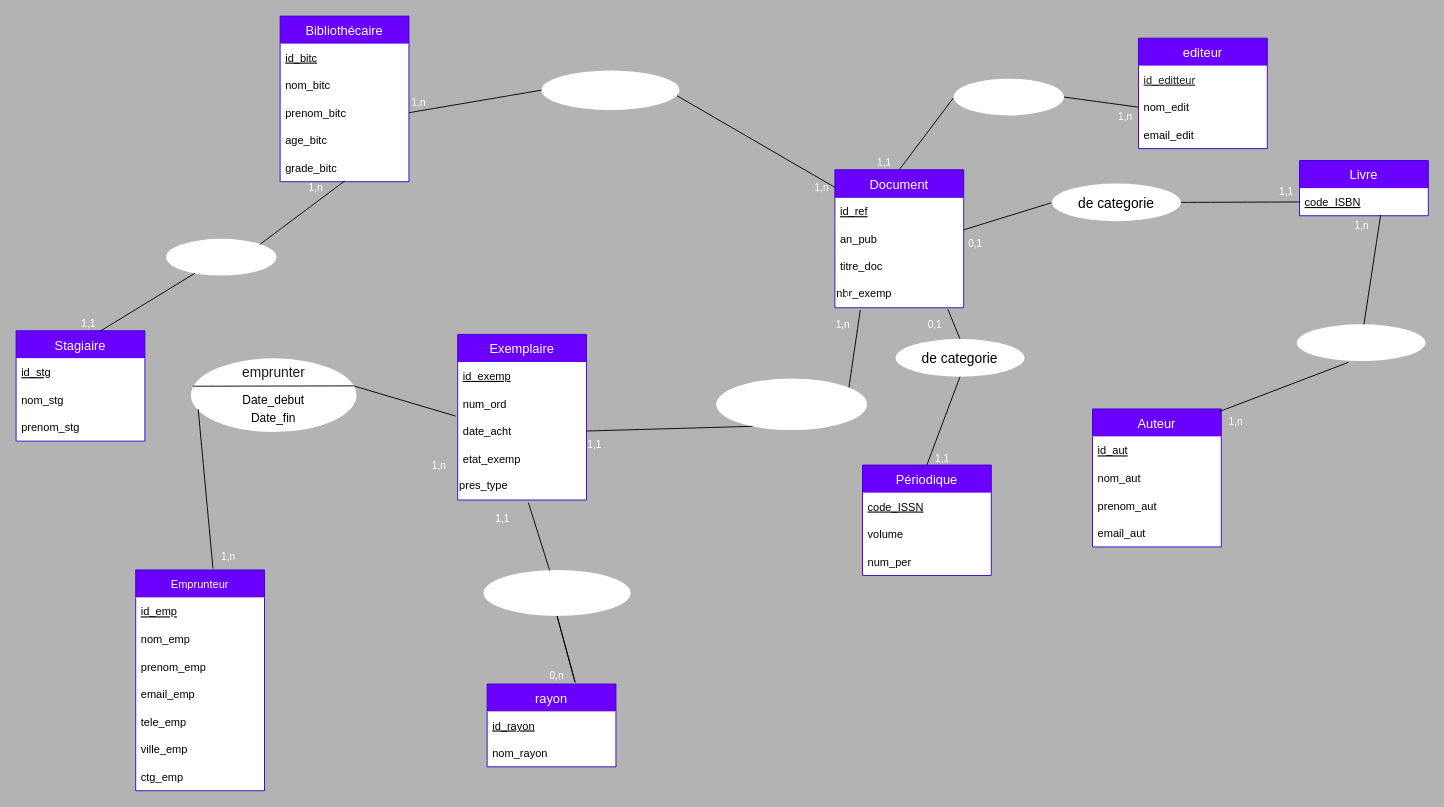
The diagram is 1444 pixels wide and 807 high, and some of its shapes have lost their labels. The shapes that lost their labels are listed below. From the top down, each one's centre as x and y in pixels, then its label:
At (610,89): "Responsable".
At (1008,96): "editer par".
At (221,256): "aider".
At (1360,342): "ecrit par".
At (791,404): "correspondre".
At (556,592): "avoir".
